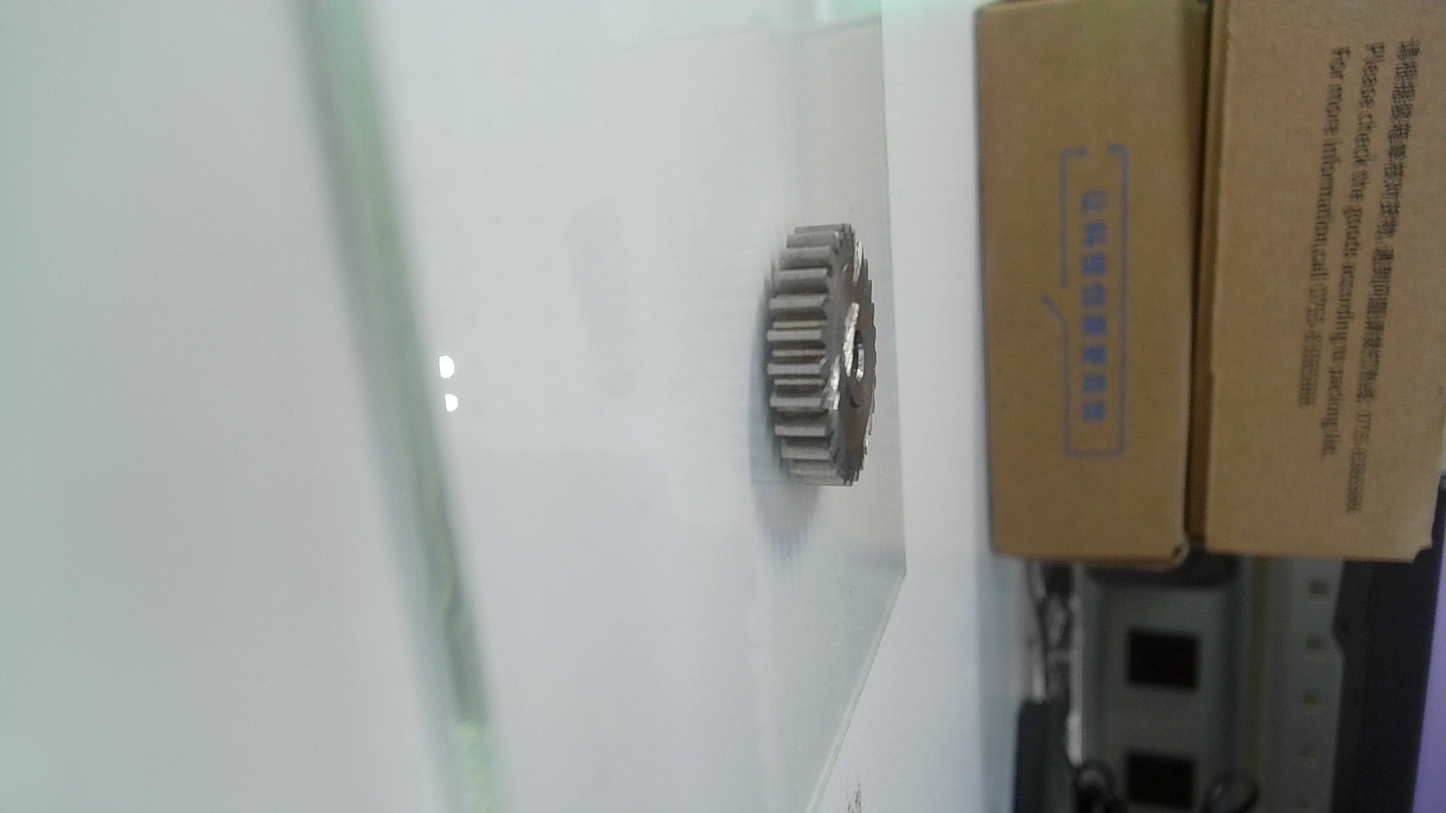gear: (754, 220, 887, 489)
